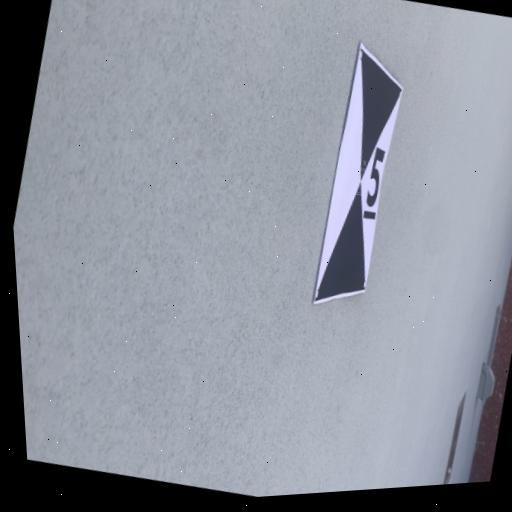target5: (313, 42, 404, 305)
